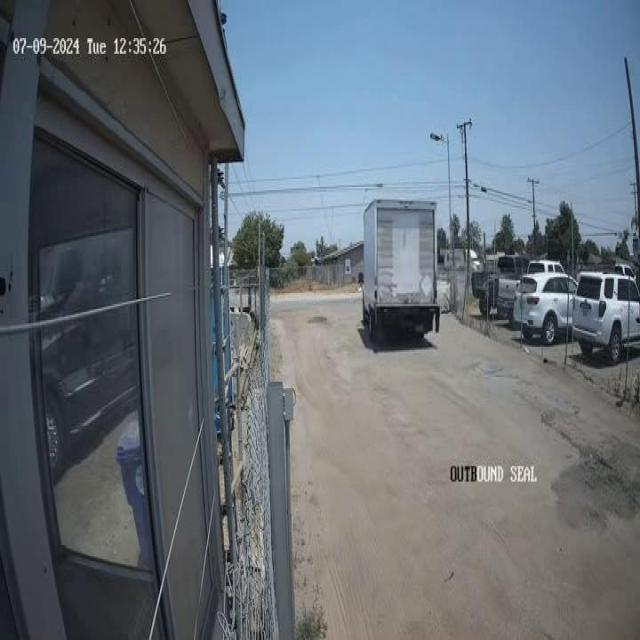TRUCK_OUT: (360, 196, 440, 344)
